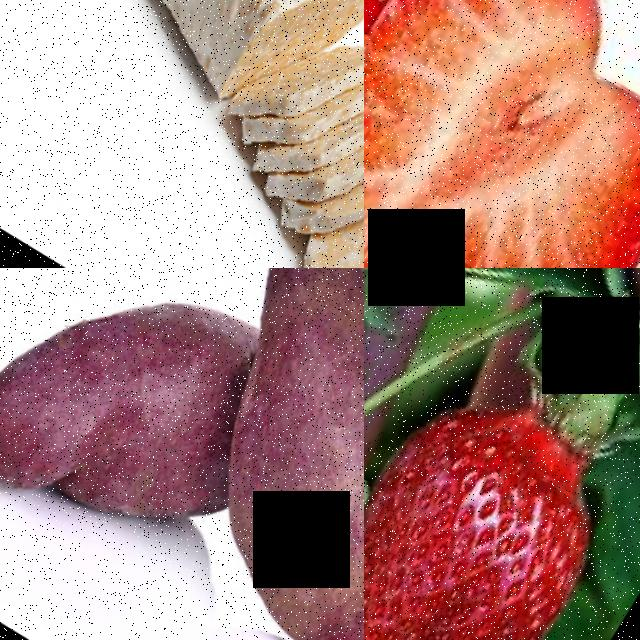strawberry: (364, 332, 640, 640), (364, 0, 640, 268), (364, 0, 480, 217)
sweet potato: (99, 268, 364, 640), (0, 268, 278, 569)
tempeh: (15, 0, 364, 72), (239, 31, 342, 138)
